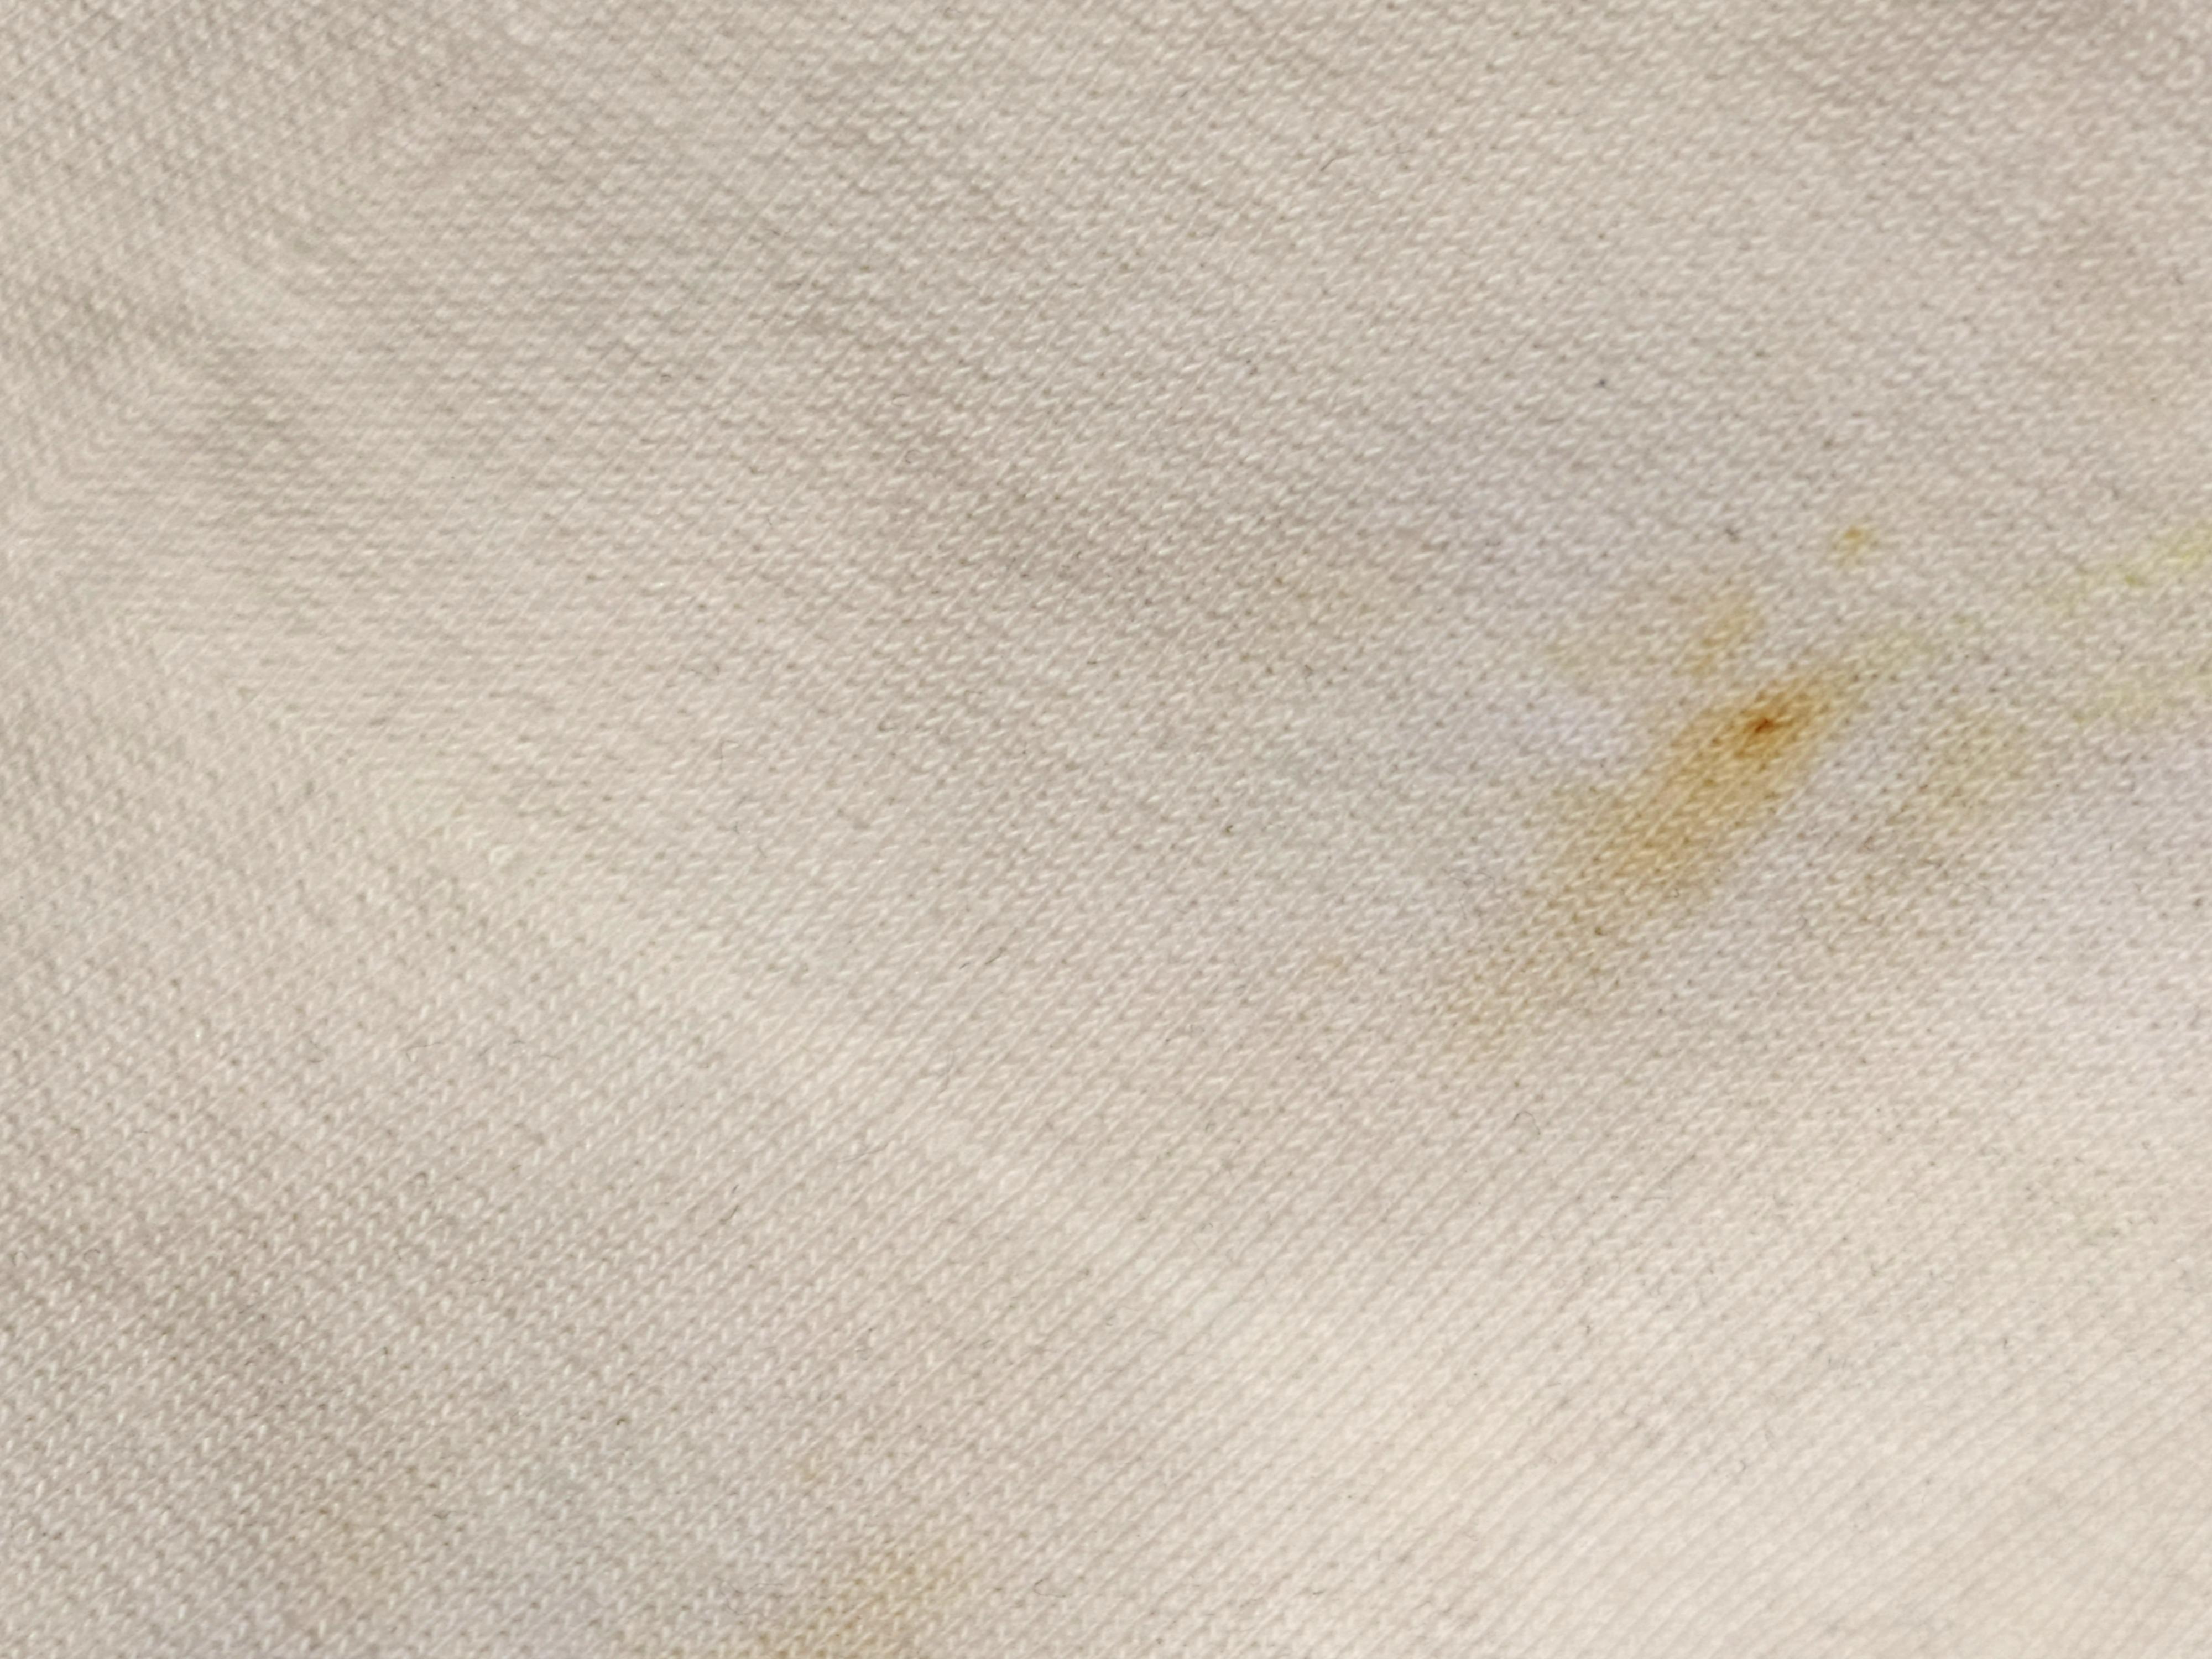stain: (1550, 662, 1883, 915)
